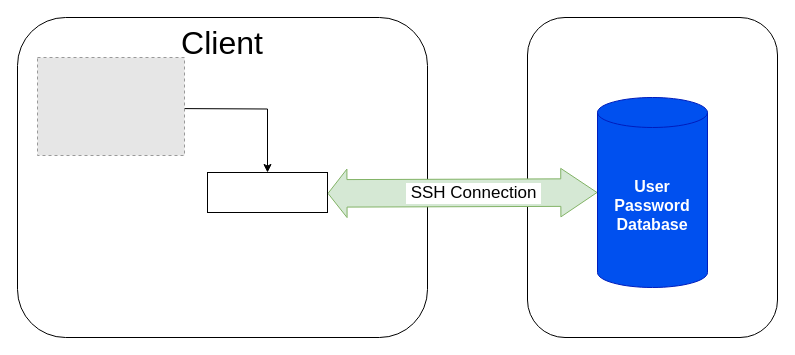
The diagram is 795 pixels wide and 355 high, and some of its shapes have lost their labels. Grey dashed boxes stand in for pictures. Here are the shapes that lost their labels. From the top down, the box of each, then its label:
(206, 172, 328, 212): Password
(526, 16, 778, 338): Server
